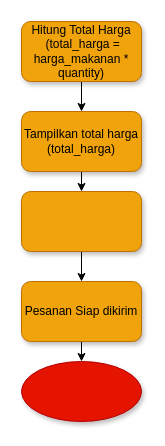
The diagram is 165 pixels wide and 446 high, and some of its shapes have lost their labels. Here are the shapes that lost their labels. From the top down, the centre of each, then its label:
(x=82, y=222): Bayar tunai / E-Wallet
(x=82, y=392): End
